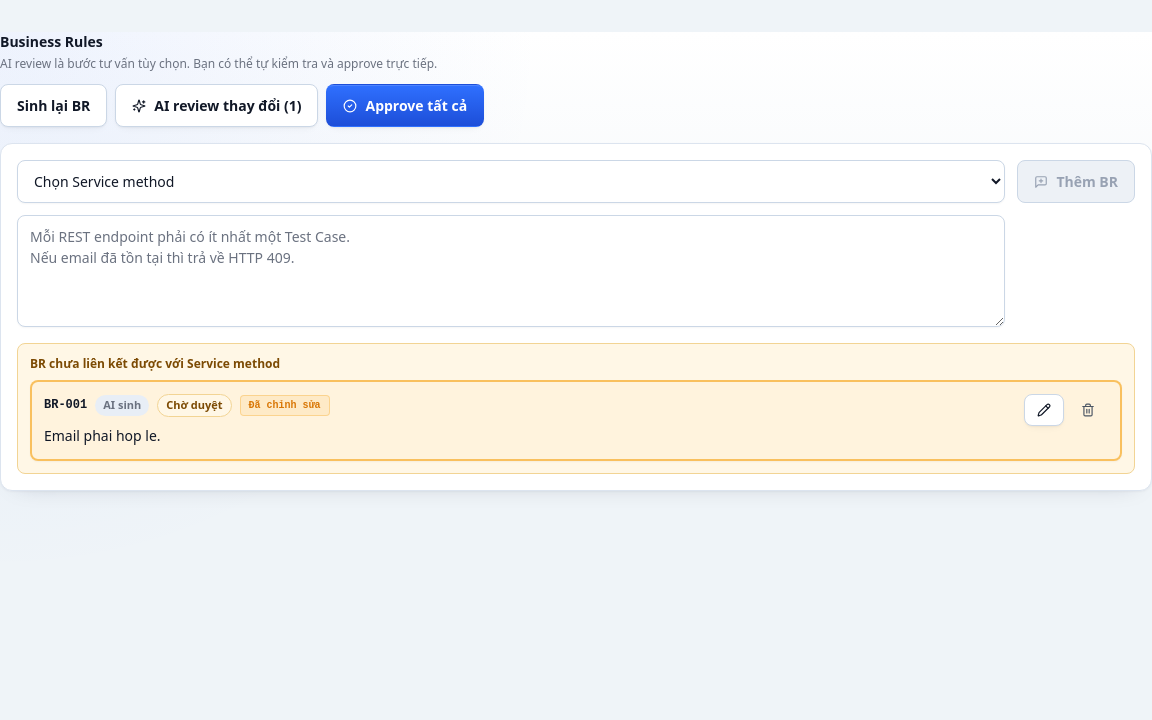
Scenario: BusinessRulesPanel › removes an obsolete review suggestion after a manual edit
Click the button "AI review thay đổi (1)" at (217, 106), box [115,84,318,127]
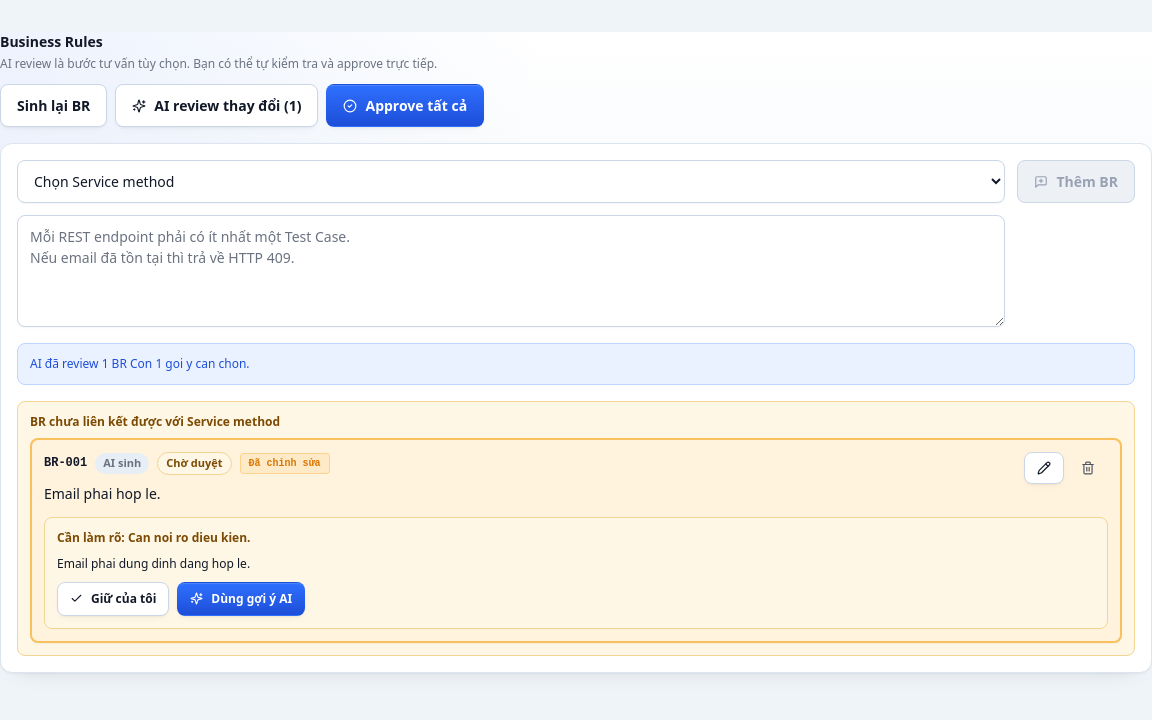
Expected: the button "Dùng gợi ý AI" is shown, [177,582,305,616]
Click the button named "Sửa rule" at (1044, 468), box [1024,452,1064,484]
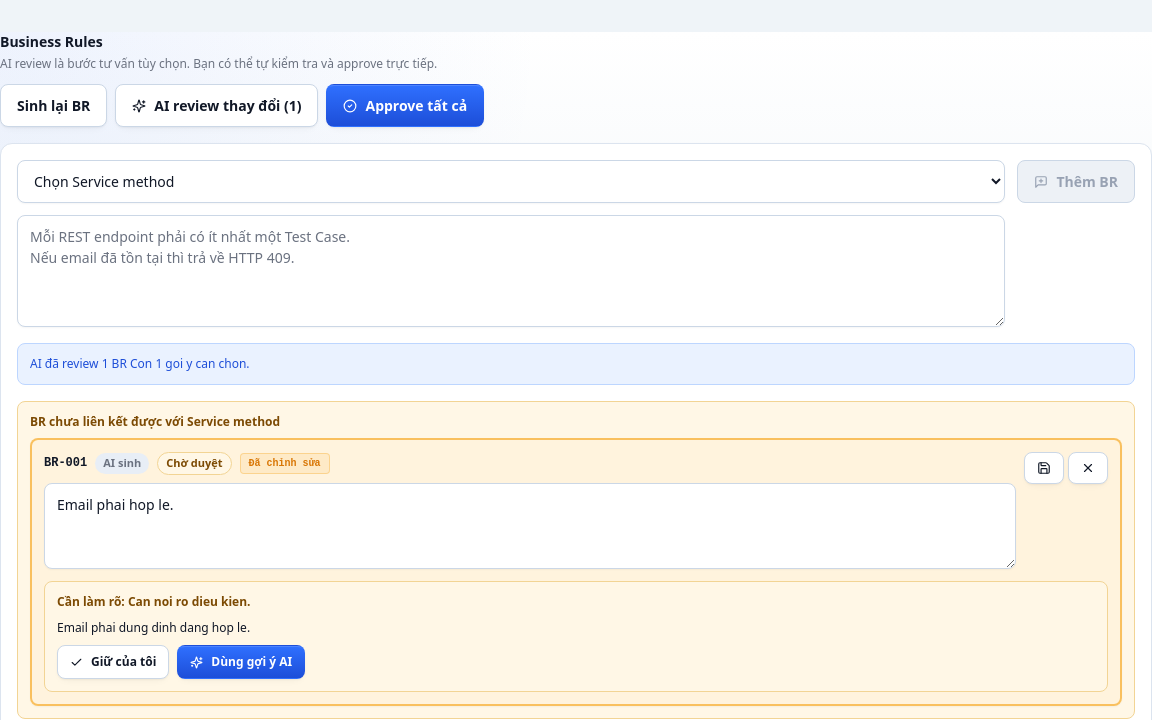
Replace the text in the text box showing "Email phai hop le." with "Email phai co dinh dang hop le." at (530, 526), box [44,482,1016,568]
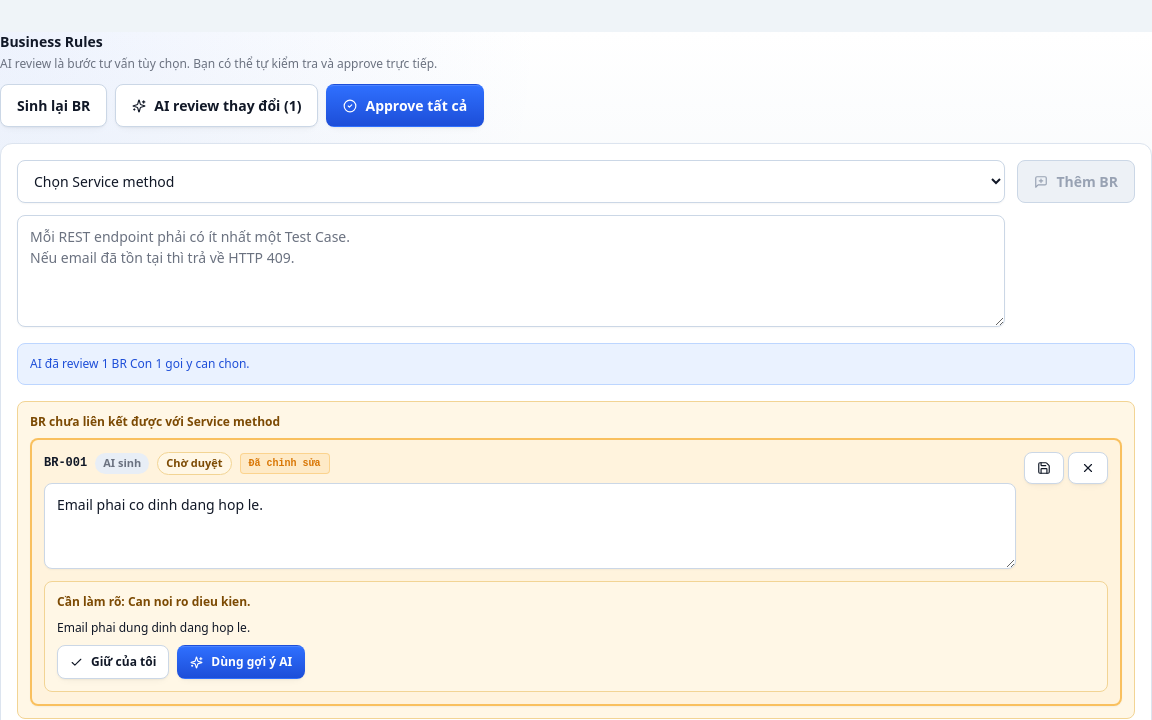
Click the button named "Lưu" at (1044, 468), box [1024,452,1064,484]
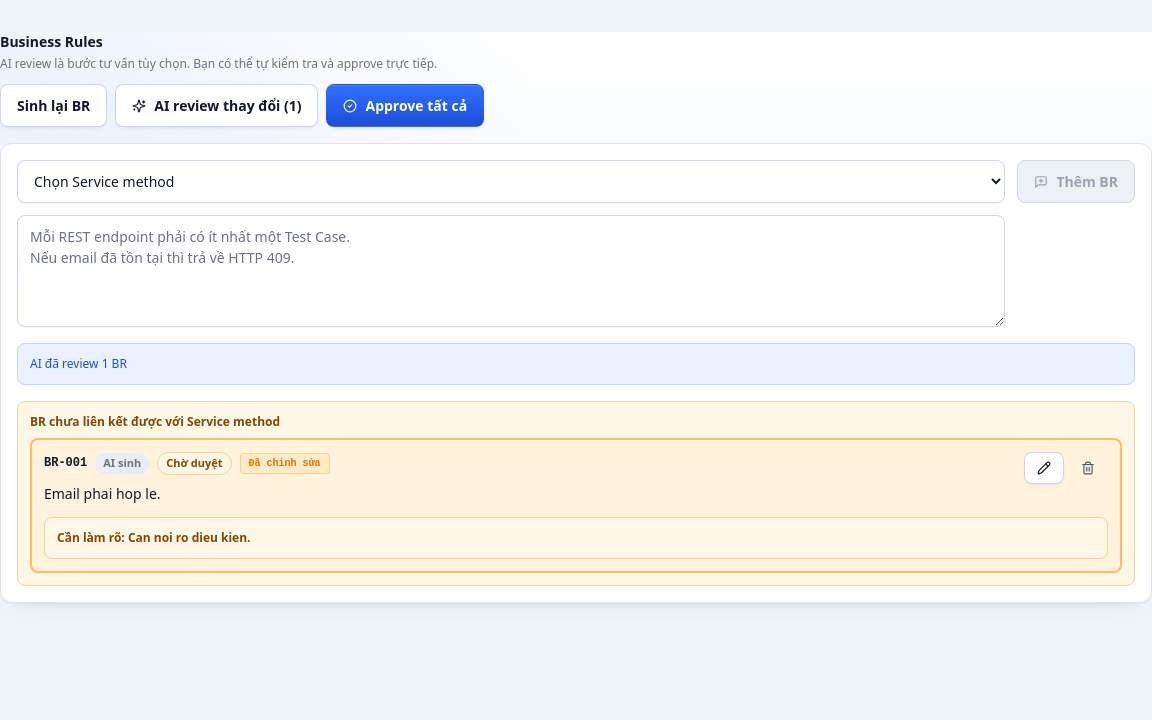
Expected: the button "Dùng gợi ý AI" is gone
